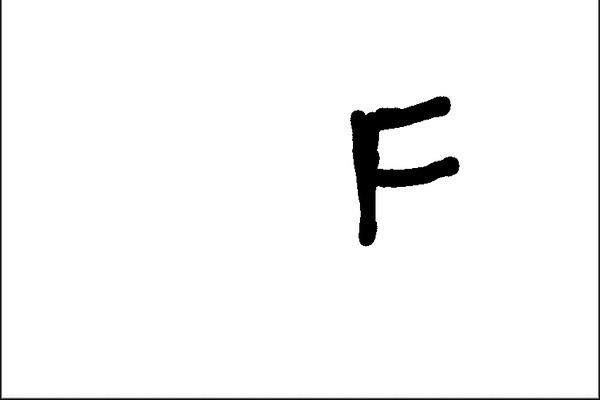F: (343, 90, 464, 250)
